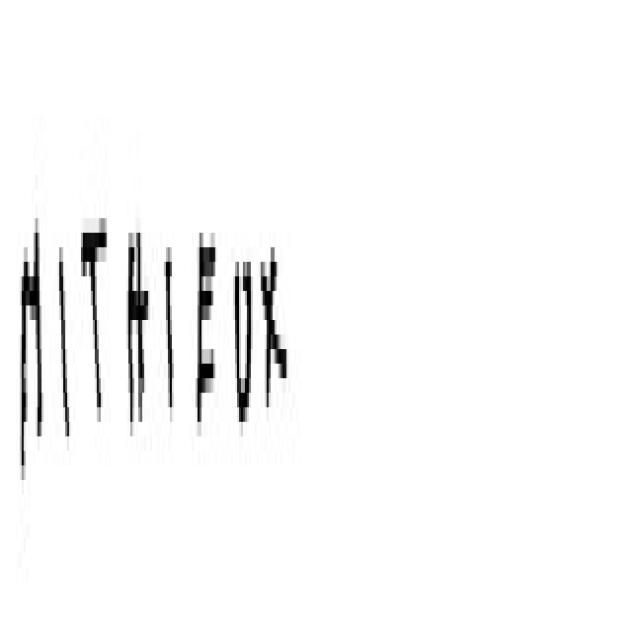E: (192, 223, 223, 545)
H: (121, 185, 154, 604)
I: (54, 122, 81, 554), (159, 179, 186, 579)
M: (11, 116, 48, 640)
T: (81, 160, 114, 562)
U: (230, 198, 255, 549)
X: (258, 217, 299, 554)
